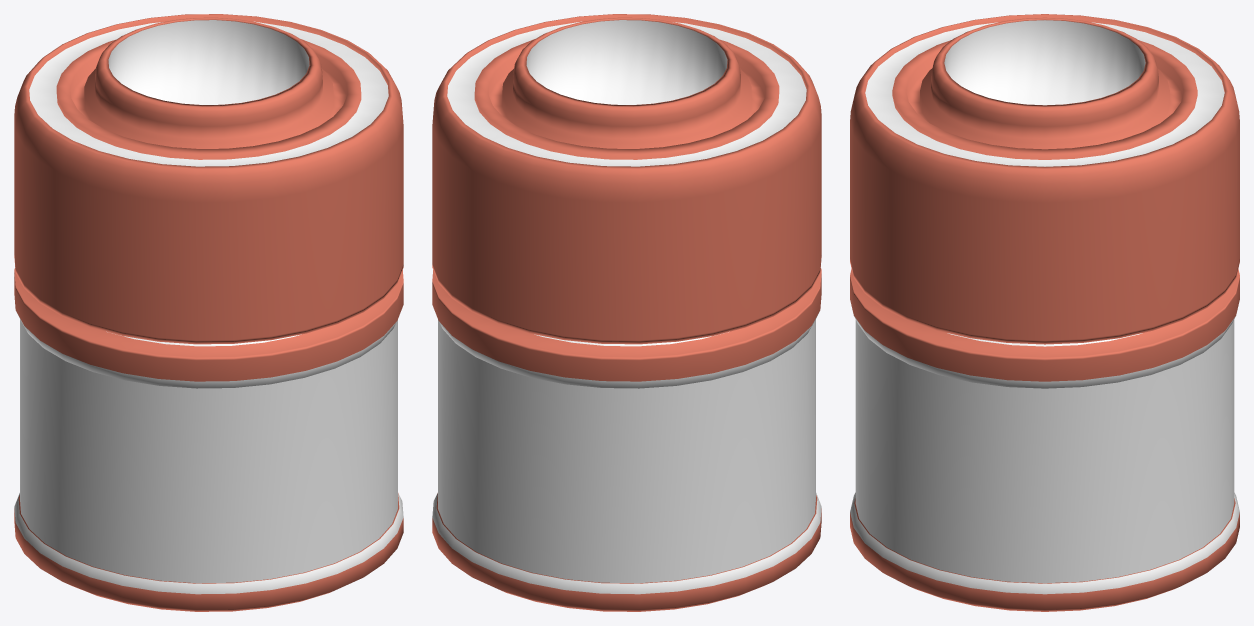
File: sm_tank.glb
3 views of the same model, side by side, from view 1: azimuth 30°, elevation 25°; view 2: azimuth 150°, elevation 25°; view 3: azimuth 270°, elevation 25° (orthographic).
Parts seen in each view (by area): view 1: Tank; view 2: Tank; view 3: Tank.
Part boxes in pixels (<box>): Tank: <box>14,14,403,611</box>; Tank: <box>432,14,821,611</box>; Tank: <box>850,14,1239,611</box>.
Bounding box in the file's own units: 1.3 × 1.73 × 1.3.
